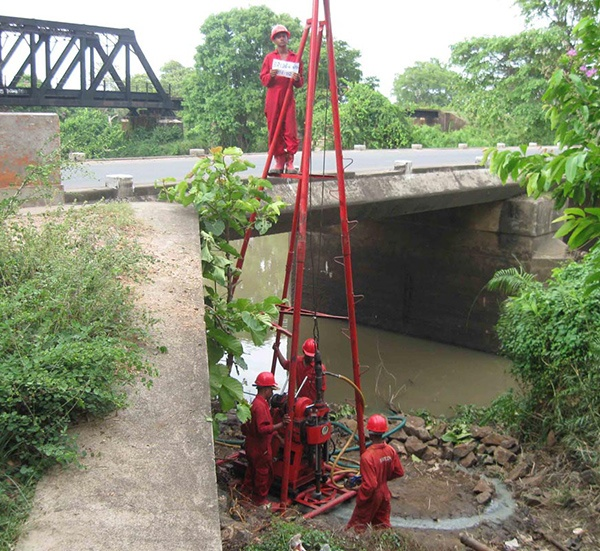red: (365, 412, 387, 441), (254, 371, 276, 398), (270, 23, 290, 48), (299, 334, 318, 360)
